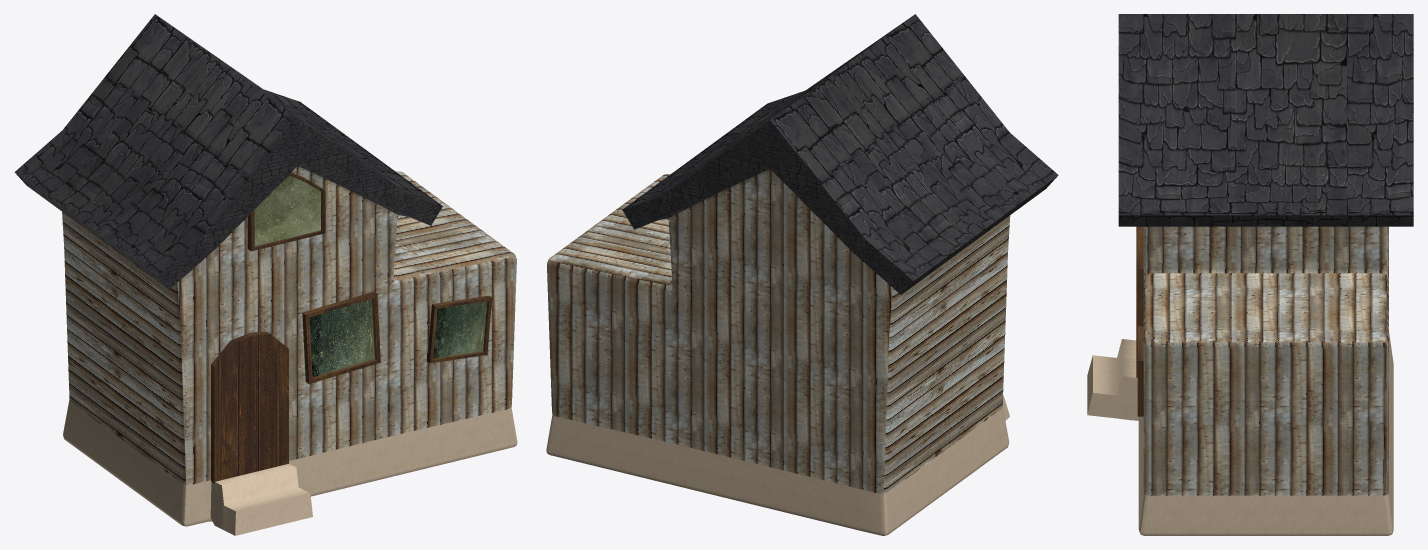
The model's file is villagehouse.fbx.
The picture shows the model from 3 angles, left to right: view 1: azimuth 30°, elevation 25°; view 2: azimuth 150°, elevation 25°; view 3: azimuth 270°, elevation 25°; orthographic projection. The views are drawn at different scales.
Visible parts, largest first — view 1: HOUSE, DOOR, WINDOW1, WINDOW2, WINDOW3; view 2: HOUSE; view 3: HOUSE, WINDOW1, WINDOW3.
Part boxes in pixels (x1,y1,x2,y2): HOUSE: (14, 14, 517, 535); DOOR: (211, 332, 288, 483); WINDOW1: (302, 291, 380, 383); WINDOW2: (247, 172, 325, 251); WINDOW3: (427, 295, 492, 363); HOUSE: (546, 14, 1058, 535); HOUSE: (1087, 14, 1413, 535); WINDOW1: (1136, 237, 1143, 343); WINDOW3: (1137, 326, 1143, 416).
Size of the model in its own units: 1112 by 1116 by 812.
